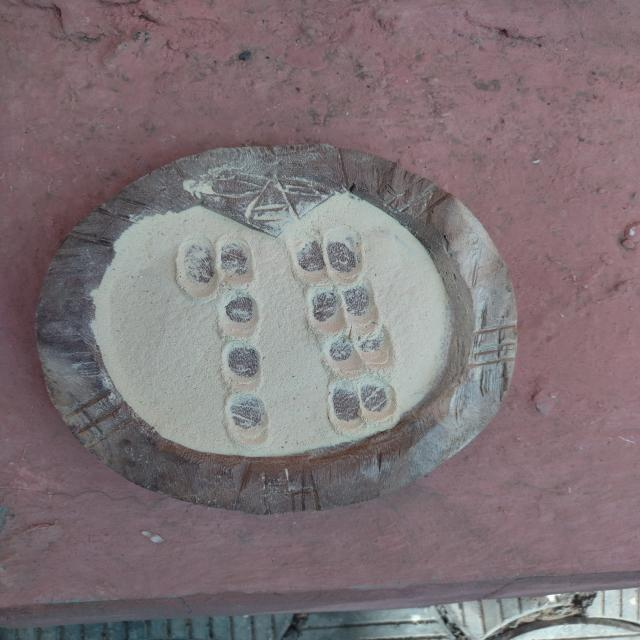double: (175, 232, 253, 290), (301, 278, 381, 329), (316, 322, 394, 374), (324, 373, 396, 428), (288, 231, 364, 283)
single: (222, 390, 274, 449), (218, 336, 268, 391), (216, 288, 264, 341)
